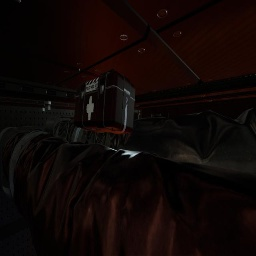FirstAidBox ,: (74, 69, 135, 134)
